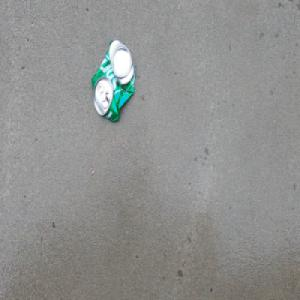SodaCan: (90, 37, 136, 124)
